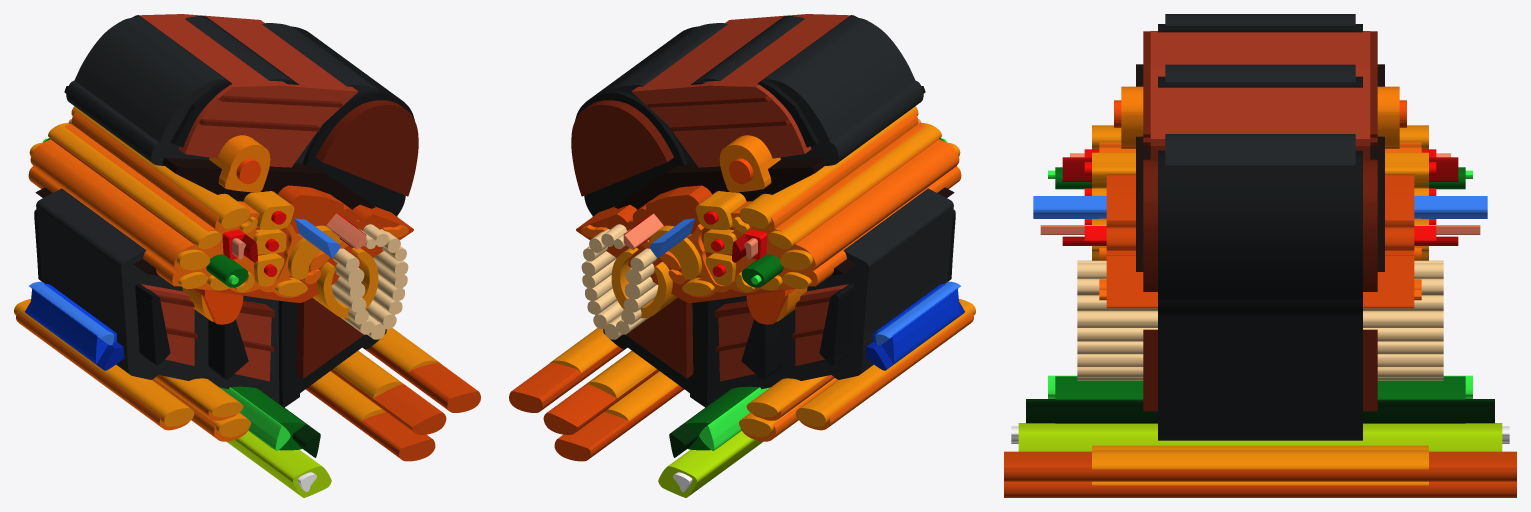
3 renders of one model, left to right at view 1: azimuth 30°, elevation 25°; view 2: azimuth 150°, elevation 25°; view 3: azimuth 270°, elevation 25°, orthographic. The views are drawn at different scales.
Visible parts, largest first — view 1: U+1FA8E_layer03_obj01, U+1FA8E_layer03_obj00, U+1FA8E_layer05_obj00, U+1FA8E_layer12_obj05, U+1FA8E_layer06_obj03, U+1FA8E_layer04_obj02, U+1FA8E_layer15_obj01, U+1FA8E_layer11_obj00, U+1FA8E_layer07_obj01, U+1FA8E_layer13_obj10, U+1FA8E_layer06_obj01, U+1FA8E_layer23_obj00 (+36 smaller); view 2: U+1FA8E_layer03_obj01, U+1FA8E_layer03_obj00, U+1FA8E_layer05_obj00, U+1FA8E_layer12_obj05, U+1FA8E_layer06_obj03, U+1FA8E_layer04_obj02, U+1FA8E_layer15_obj01, U+1FA8E_layer11_obj00, U+1FA8E_layer07_obj01, U+1FA8E_layer13_obj10, U+1FA8E_layer06_obj01, U+1FA8E_layer23_obj00 (+36 smaller); view 3: U+1FA8E_layer04_obj02, U+1FA8E_layer05_obj00, U+1FA8E_layer03_obj01, U+1FA8E_layer15_obj01, U+1FA8E_layer25_obj01, U+1FA8E_layer11_obj00, U+1FA8E_layer23_obj00, U+1FA8E_layer25_obj00, U+1FA8E_layer13_obj16, U+1FA8E_layer22_obj00, U+1FA8E_layer06_obj03, U+1FA8E_layer18_obj01 (+20 smaller).
Part boxes in pixels (x1,y1,x2,y2): U+1FA8E_layer03_obj01: (66,16,379,165); U+1FA8E_layer03_obj00: (36,188,279,403); U+1FA8E_layer05_obj00: (139,14,358,167); U+1FA8E_layer12_obj05: (28,112,302,297); U+1FA8E_layer06_obj03: (316,100,418,196); U+1FA8E_layer04_obj02: (278,26,414,407); U+1FA8E_layer15_obj01: (331,248,408,339); U+1FA8E_layer11_obj00: (160,185,413,302); U+1FA8E_layer07_obj01: (64,86,375,209); U+1FA8E_layer13_obj10: (48,123,221,249); U+1FA8E_layer06_obj01: (296,297,364,378); U+1FA8E_layer23_obj00: (227,431,331,497); U+1FA8E_layer03_obj01: (610,16,923,165); U+1FA8E_layer03_obj00: (710,188,953,403); U+1FA8E_layer05_obj00: (631,14,850,167); U+1FA8E_layer12_obj05: (687,112,961,297); U+1FA8E_layer06_obj03: (571,100,673,196); U+1FA8E_layer04_obj02: (575,26,711,407); U+1FA8E_layer15_obj01: (581,248,658,339); U+1FA8E_layer11_obj00: (576,185,829,302); U+1FA8E_layer07_obj01: (614,86,925,209); U+1FA8E_layer13_obj10: (768,123,941,249); U+1FA8E_layer06_obj01: (625,297,693,378); U+1FA8E_layer23_obj00: (658,431,762,497); U+1FA8E_layer04_obj02: (1158,150,1362,440); U+1FA8E_layer05_obj00: (1150,31,1370,159); U+1FA8E_layer03_obj01: (1165,14,1355,165); U+1FA8E_layer15_obj01: (1077,311,1443,380); U+1FA8E_layer25_obj01: (1004,451,1516,481); U+1FA8E_layer11_obj00: (1106,174,1414,308); U+1FA8E_layer23_obj00: (1018,423,1502,451); U+1FA8E_layer25_obj00: (1004,481,1516,497); U+1FA8E_layer13_obj16: (1092,450,1428,469); U+1FA8E_layer22_obj00: (1026,399,1494,423); U+1FA8E_layer06_obj03: (1143,159,1377,291); U+1FA8E_layer18_obj01: (1055,376,1465,423).
Size of the model in its own units: 0.2724 by 0.3175 by 0.35.
